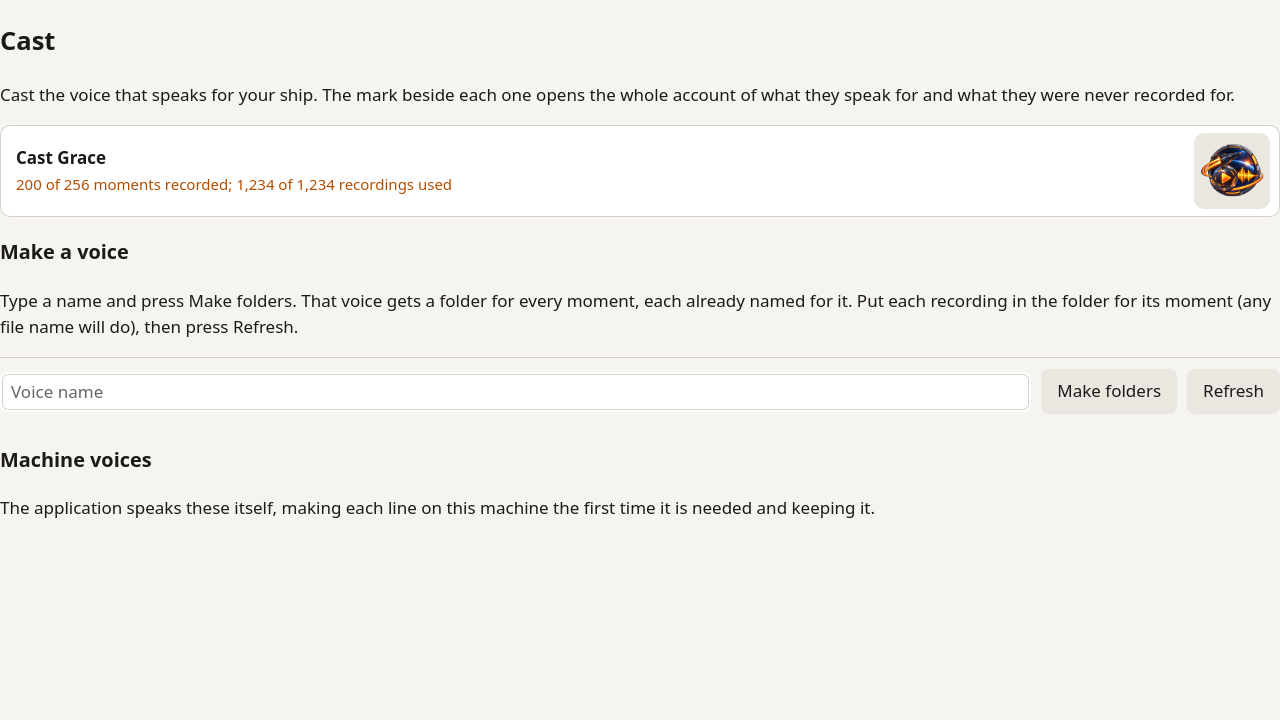
Test: the breakdown behind a row › says plainly when one half of the breakdown is empty
This screenshot has width=1280, height=720.
Click the button named "Moments Grace speaks for".
click(1232, 171)  # box [1194, 133, 1270, 209]
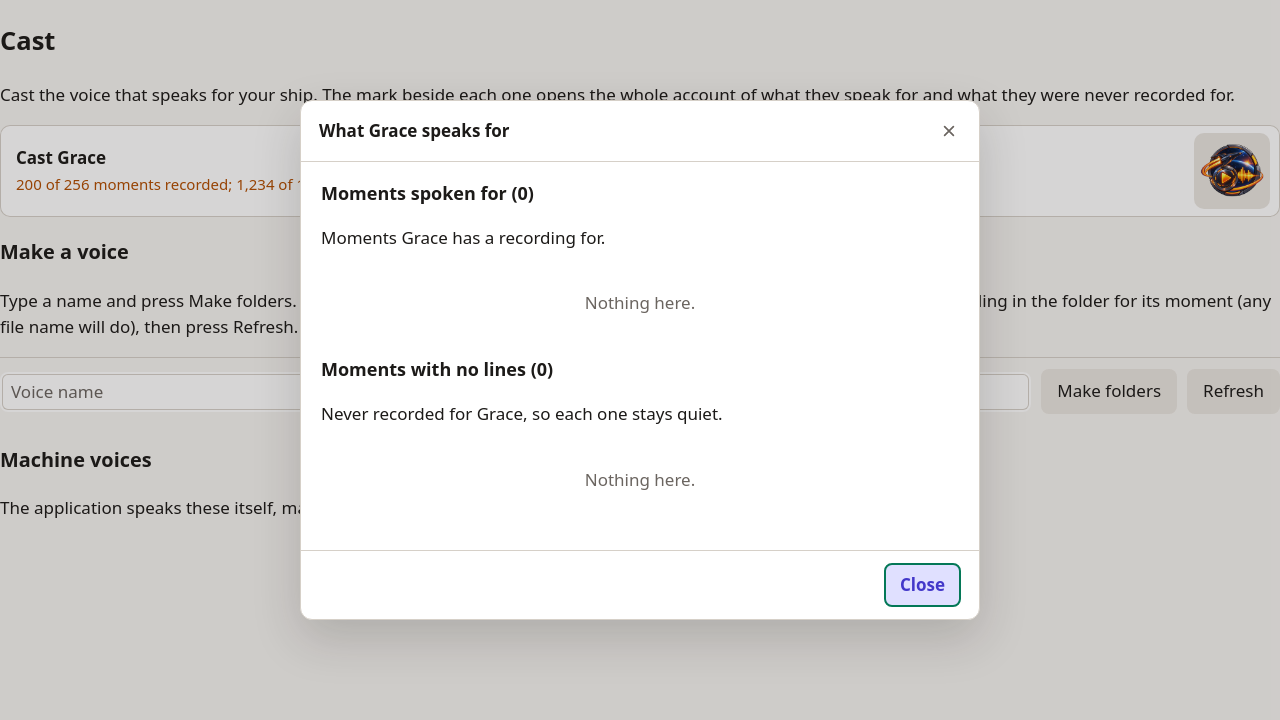
Now the heading "Moments spoken for (0)" is shown, box [321, 181, 534, 205]
Now the text "Nothing here." is shown 2 times, box [585, 291, 695, 314]; [585, 468, 695, 491]
